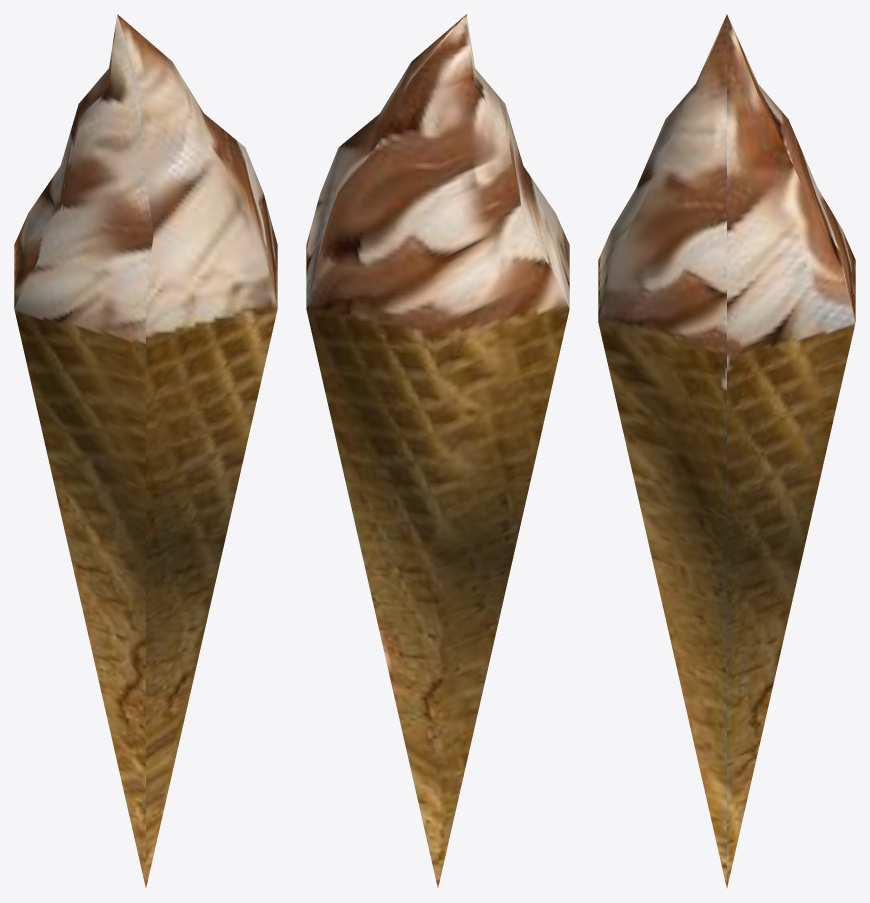
Rendered from Frozen_05.glb.
The picture shows the model from 3 angles, left to right: view 1: azimuth 30°, elevation 25°; view 2: azimuth 150°, elevation 25°; view 3: azimuth 270°, elevation 25°; orthographic projection. The views are drawn at different scales.
Parts seen in each view (by area): view 1: Frozen_05; view 2: Frozen_05; view 3: Frozen_05.
Part boxes in pixels (x1,y1,x2,y2): Frozen_05: [14, 14, 277, 887]; Frozen_05: [306, 14, 569, 887]; Frozen_05: [598, 14, 855, 887].
Size of the model in its own units: 0.0654 by 0.2092 by 0.0566.
1 material, 1 textured.
